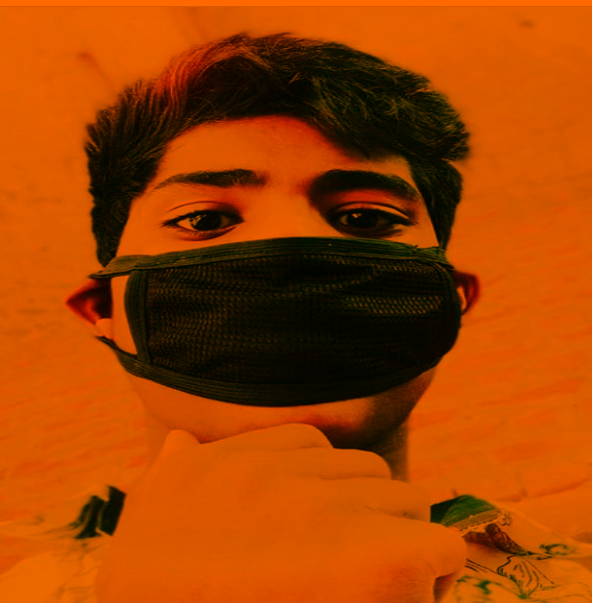mask_weared_incorrect: (70, 34, 483, 457)
